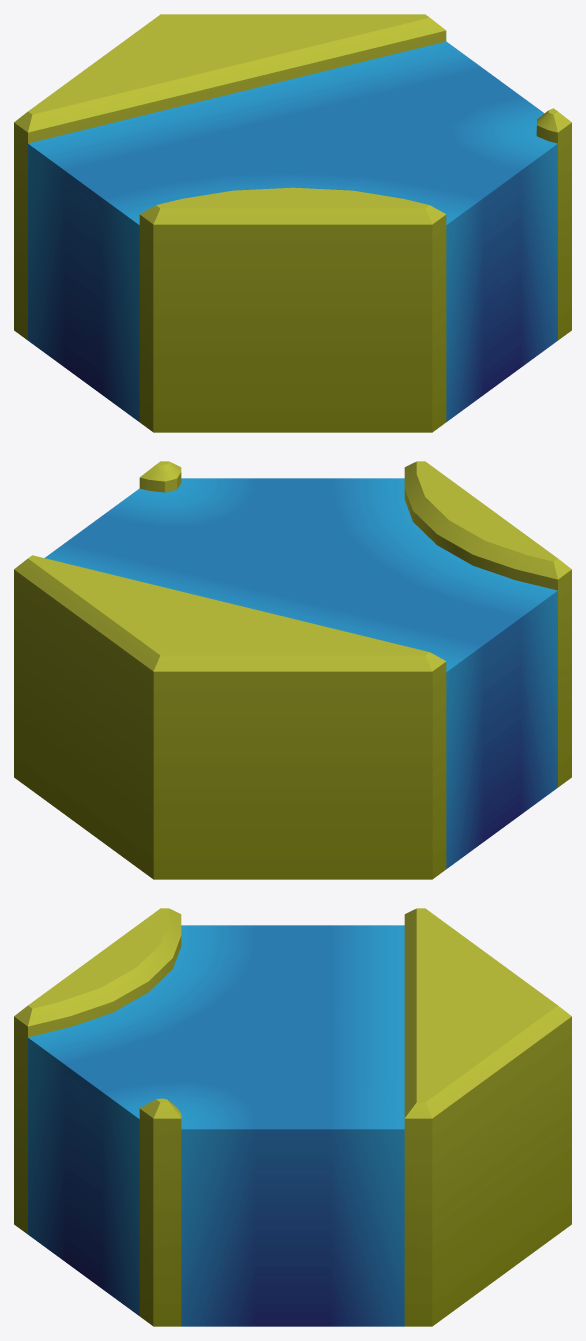
Rendered from kaykit-medieval-hexagon-pack-hex-river-f.glb.
3 views of the same model, one above another, from view 1: azimuth 30°, elevation 25°; view 2: azimuth 150°, elevation 25°; view 3: azimuth 270°, elevation 25° (orthographic).
Parts seen in each view (by area): view 1: hex_river_F; view 2: hex_river_F; view 3: hex_river_F.
Part boxes in pixels (x1,y1,x2,y2): hex_river_F: (14,14,571,432); hex_river_F: (14,461,571,879); hex_river_F: (14,908,571,1326).
Bounding box in the file's own units: 2 × 1 × 2.31.
1 material, 1 textured.
